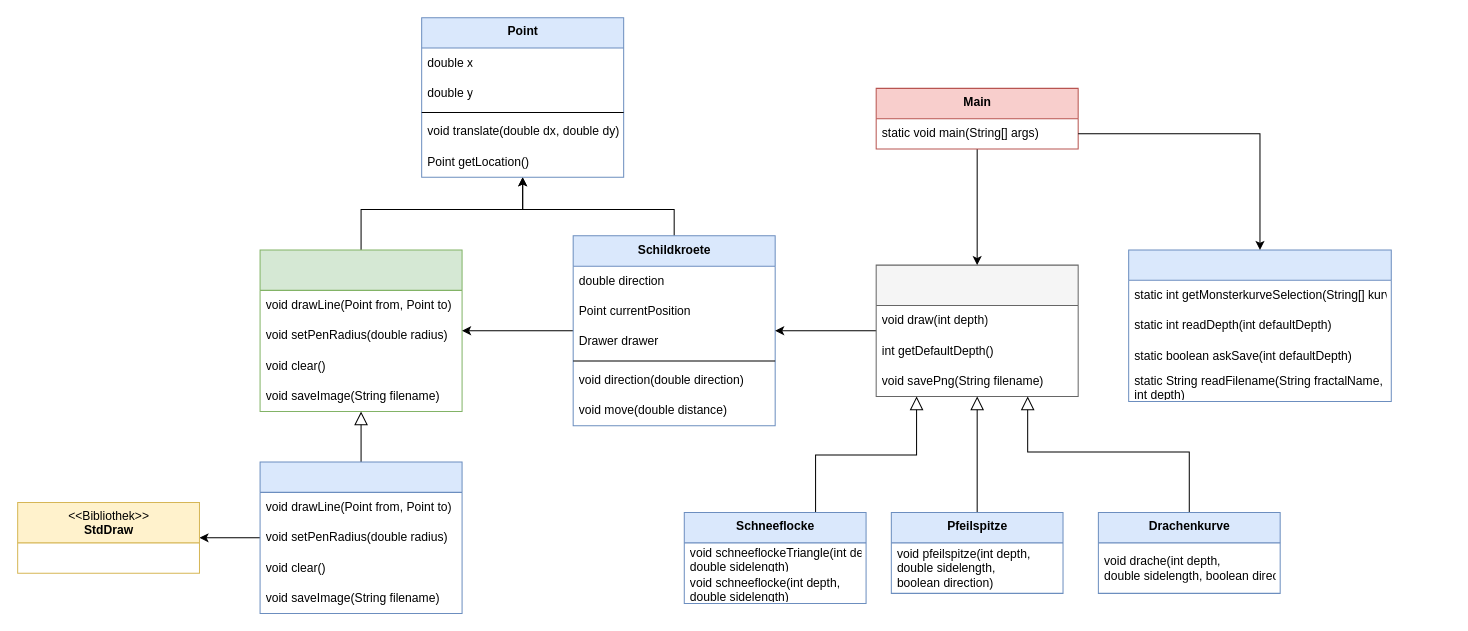
The diagram is 1468 pixels wide and 631 high, and some of its shapes have lost their labels. The box of each missing label's shape, as (x1, y1, x2, y2) in pixels:
<<abtract class>> Monsterkurve: (875, 264, 1078, 396)
<<Interface>> Drawer: (259, 249, 462, 412)
Input: (1128, 249, 1391, 401)
StdDrawer: (259, 461, 462, 614)
